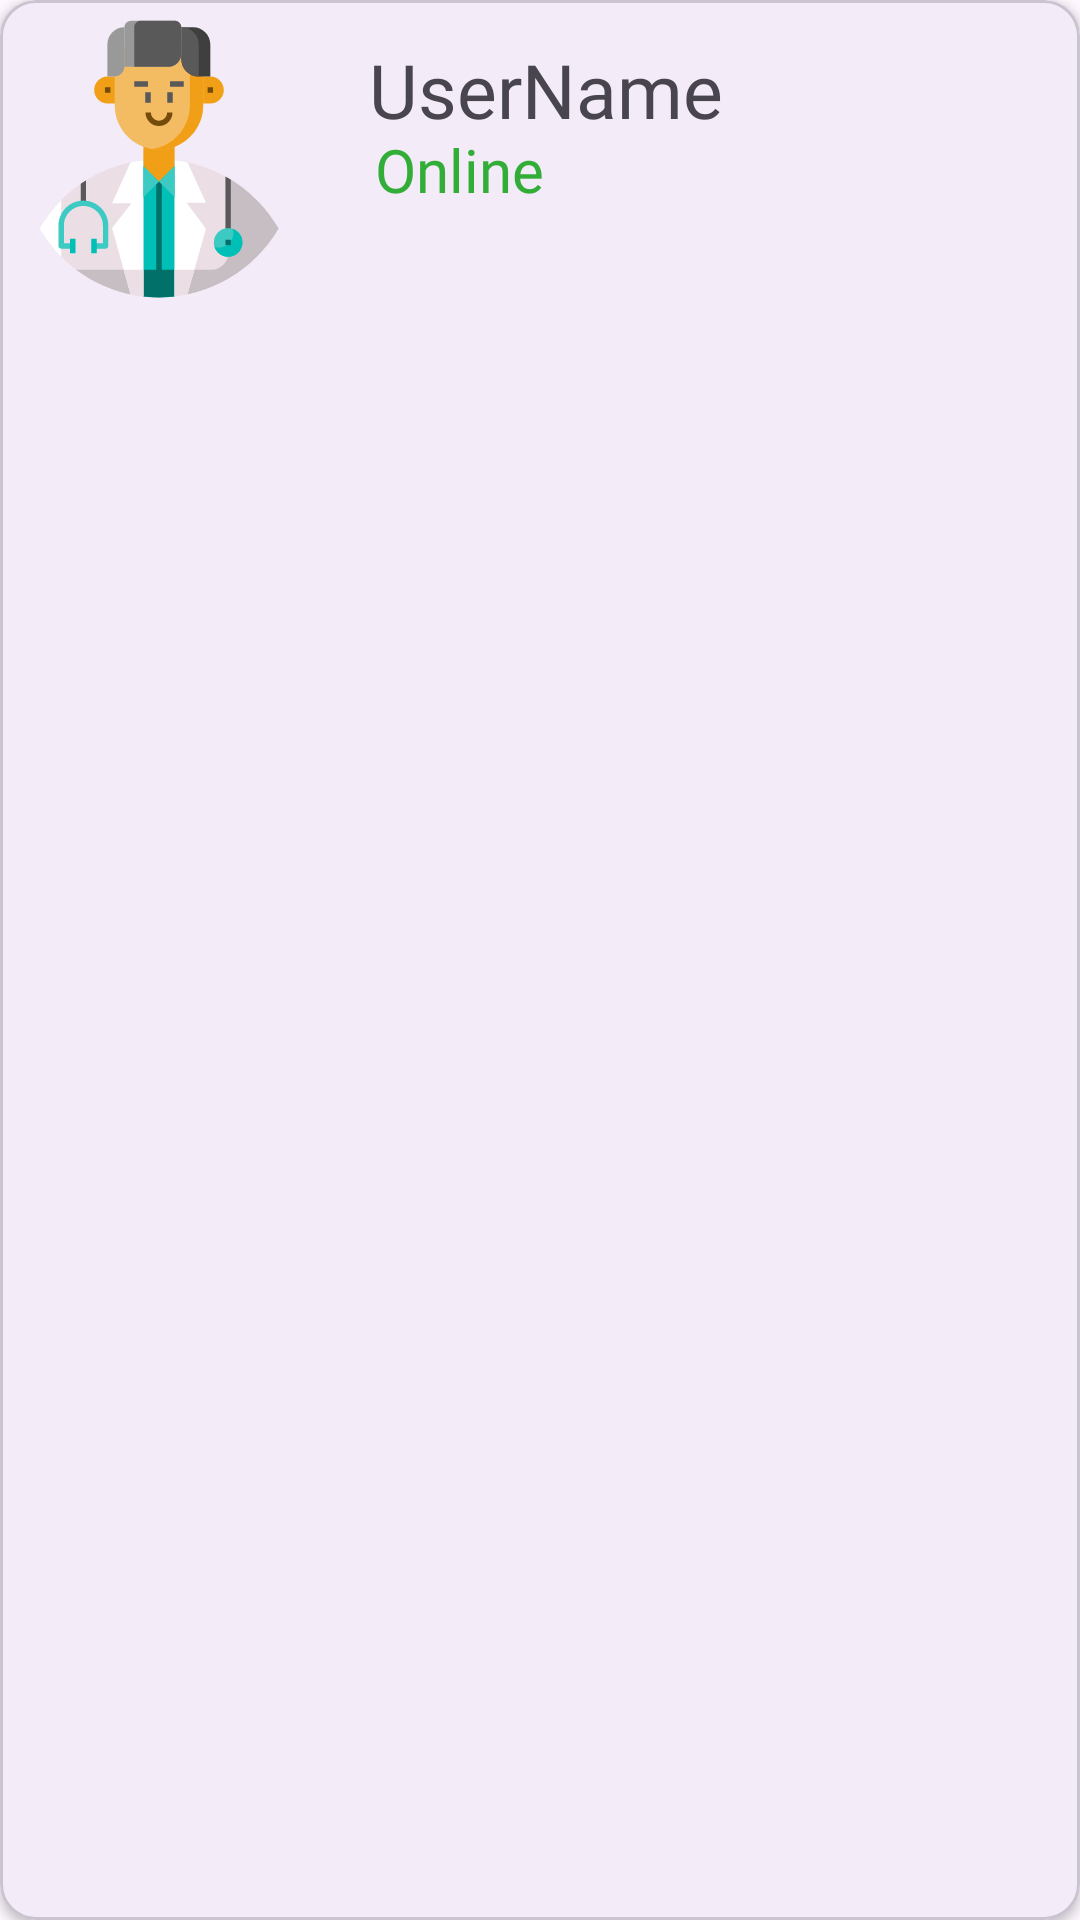

Named icons in this screenshot (1080px×1920px) and their centers, point (x, y):
doctor: point (168, 159)
